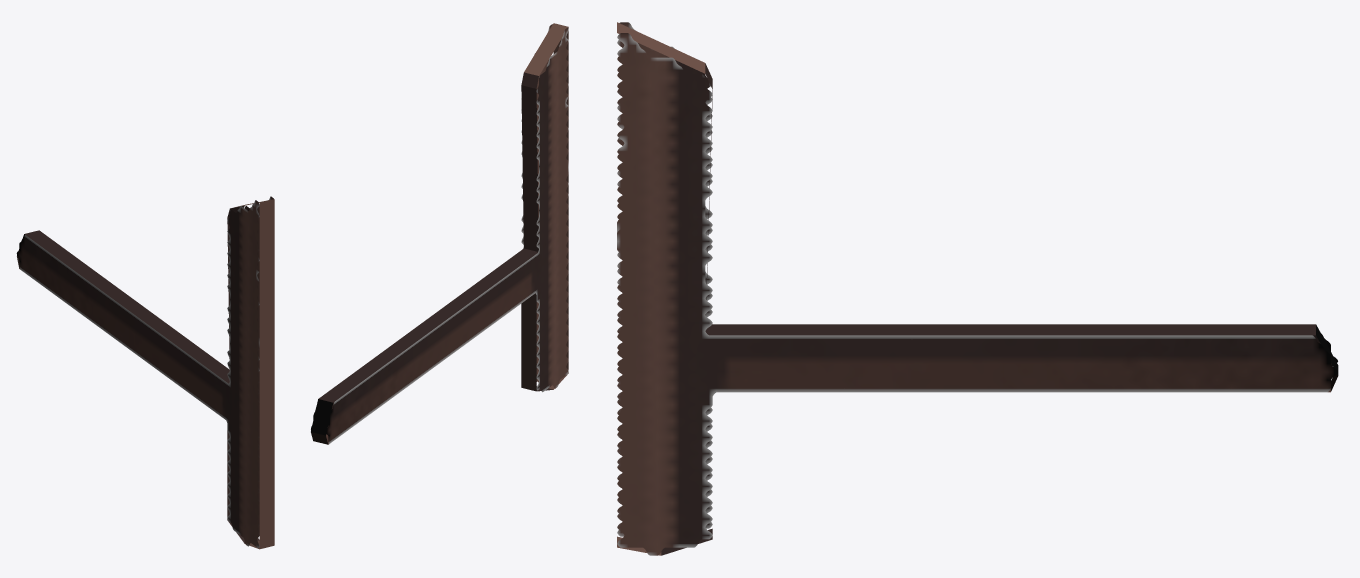
Rendered from pz_native_fixtures_railings_01_54_frame.obj.
3 views of the same model, side by side, from view 1: azimuth 30°, elevation 25°; view 2: azimuth 150°, elevation 25°; view 3: azimuth 270°, elevation 25° (orthographic). The views are drawn at different scales.
Parts seen in each view (by area): view 1: pz_native_fixtures_railings_01_54_frame; view 2: pz_native_fixtures_railings_01_54_frame; view 3: pz_native_fixtures_railings_01_54_frame.
Boxes of the visible parts, x1,y1,x2,y2 form: pz_native_fixtures_railings_01_54_frame: (16, 196, 274, 549); pz_native_fixtures_railings_01_54_frame: (311, 23, 568, 444); pz_native_fixtures_railings_01_54_frame: (617, 22, 1338, 555).
Bounding box in the file's own units: 0.045 × 1.03 × 1.29.
Materials: 1 (1 with a texture image).
